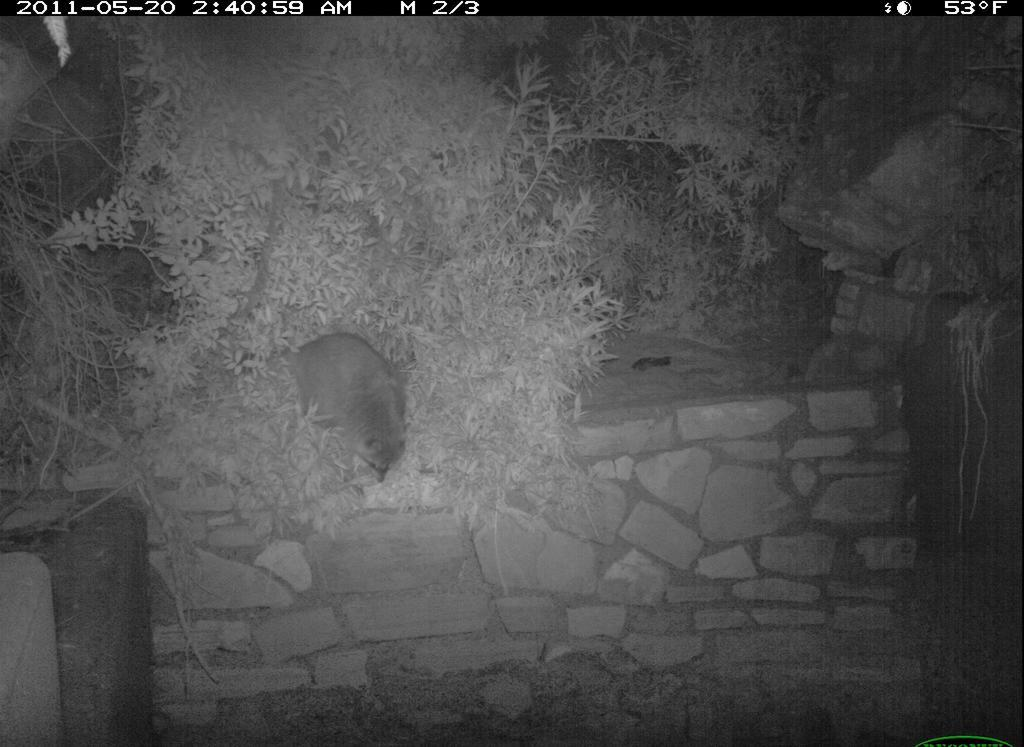raccoon: (269, 327, 419, 493)
